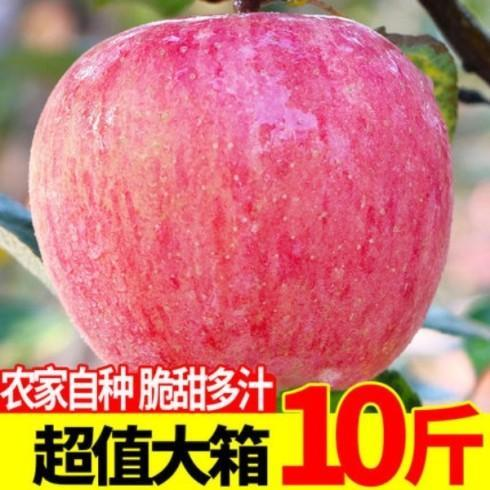apple: (29, 10, 456, 398)
